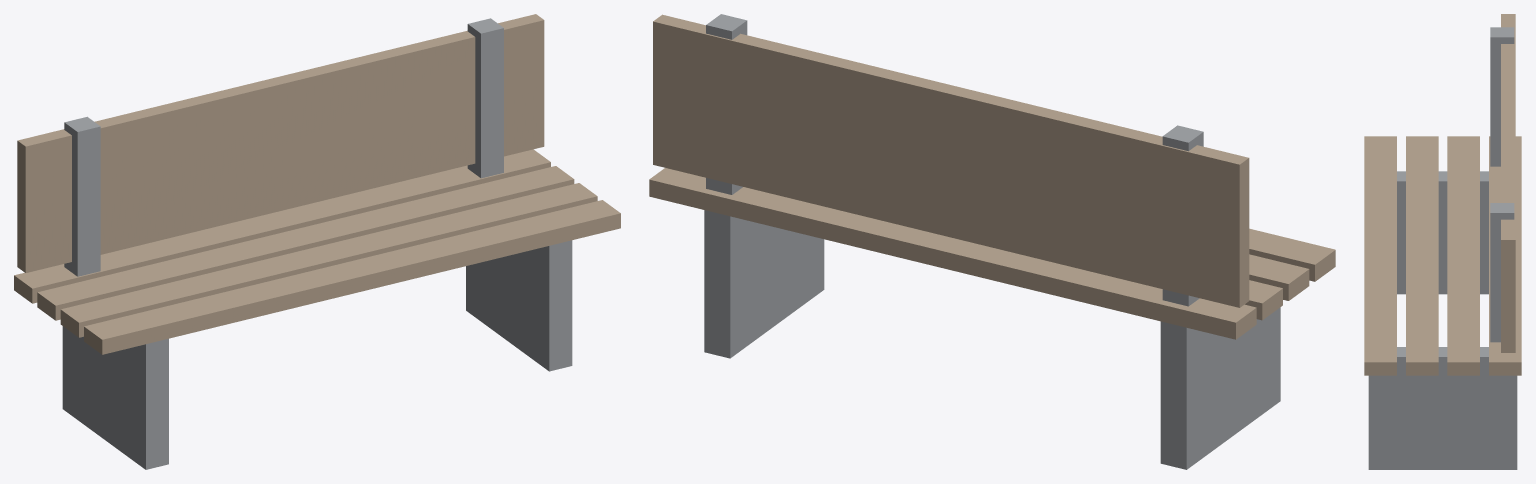
File: bench.glb
3 renders of one model, left to right at view 1: azimuth 30°, elevation 25°; view 2: azimuth 150°, elevation 25°; view 3: azimuth 270°, elevation 25°, orthographic. The views are drawn at different scales.
Visible parts, largest first — view 1: props_bench; view 2: props_bench; view 3: props_bench.
Part boxes in pixels (left/top/right/bottom): props_bench: left=14, top=14, right=620, bottom=469; props_bench: left=649, top=14, right=1335, bottom=469; props_bench: left=1364, top=14, right=1521, bottom=469.
Size of the model in its own units: 1.8 by 0.9551 by 0.5301.
